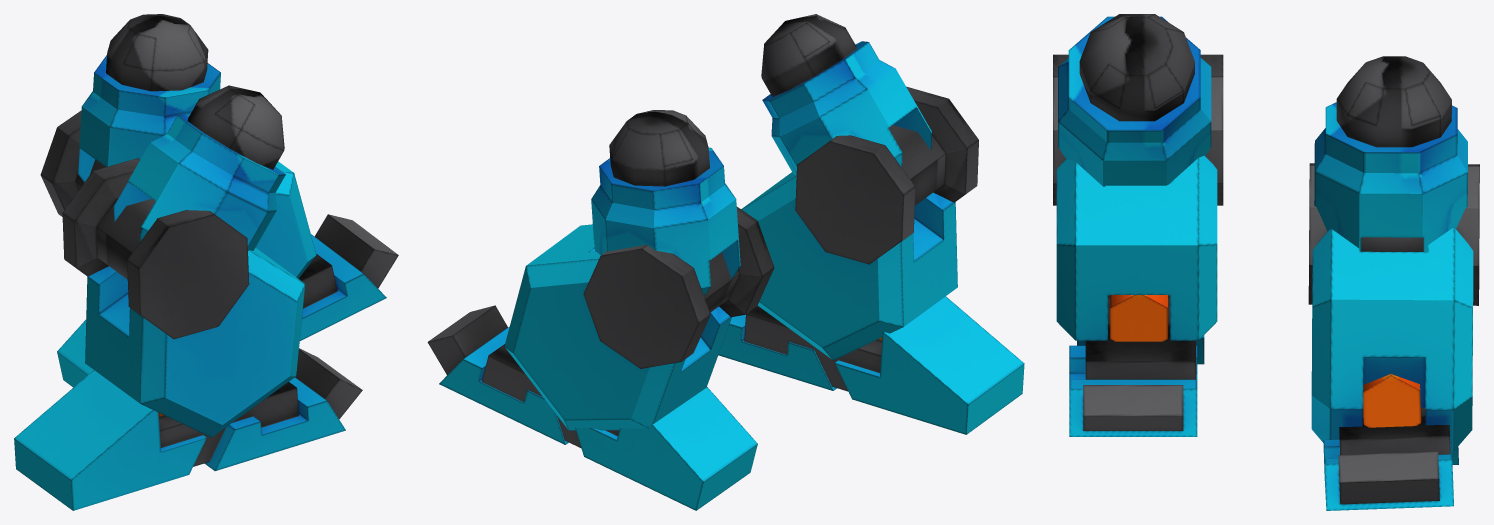
The model's file is Bottom_Idle17.obj.
3 renders of one model, left to right at view 1: azimuth 30°, elevation 25°; view 2: azimuth 150°, elevation 25°; view 3: azimuth 270°, elevation 25°, orthographic. The views are drawn at different scales.
Parts seen in each view (by area): view 1: Object013, Object014, Object012, Object009, Object011, Object010; view 2: Object013, Object010, Object014, Object011, Object009, Object012; view 3: Object010, Object013, Object009, Object012, Object014, Object011.
Boxes of the visible parts, left/top/right/bottom form: Object013: left=62, top=158, right=305, bottom=437; Object014: left=14, top=348, right=362, bottom=510; Object012: left=113, top=85, right=285, bottom=250; Object009: left=78, top=14, right=220, bottom=182; Object011: left=57, top=214, right=398, bottom=387; Object010: left=40, top=110, right=316, bottom=278; Object013: left=741, top=86, right=978, bottom=360; Object010: left=504, top=206, right=774, bottom=430; Object014: left=718, top=296, right=1024, bottom=434; Object011: left=427, top=305, right=757, bottom=510; Object009: left=591, top=110, right=740, bottom=295; Object012: left=761, top=14, right=931, bottom=175; Object010: left=1308, top=163, right=1479, bottom=451; Object013: left=1053, top=54, right=1223, bottom=340; Object009: left=1314, top=56, right=1467, bottom=252; Object012: left=1058, top=14, right=1211, bottom=186; Object014: left=1069, top=295, right=1204, bottom=436; Object011: left=1323, top=374, right=1458, bottom=510.
Bounding box in the file's own units: 127 × 107 × 94.65.
